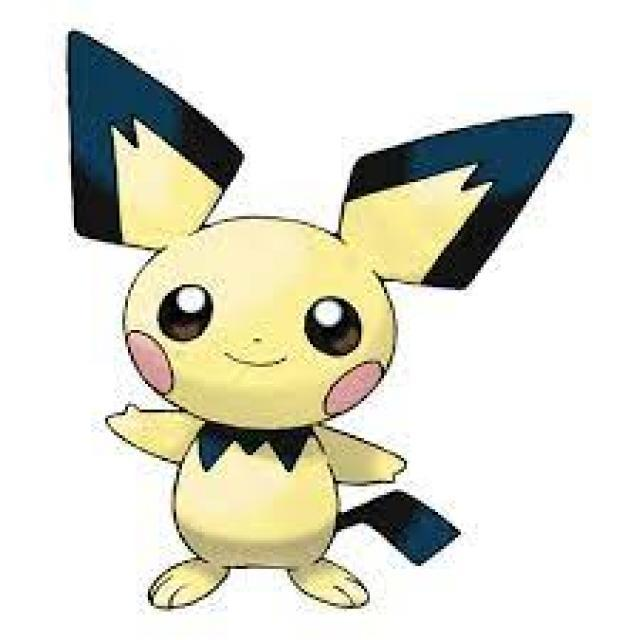pichu: (50, 39, 538, 621)
